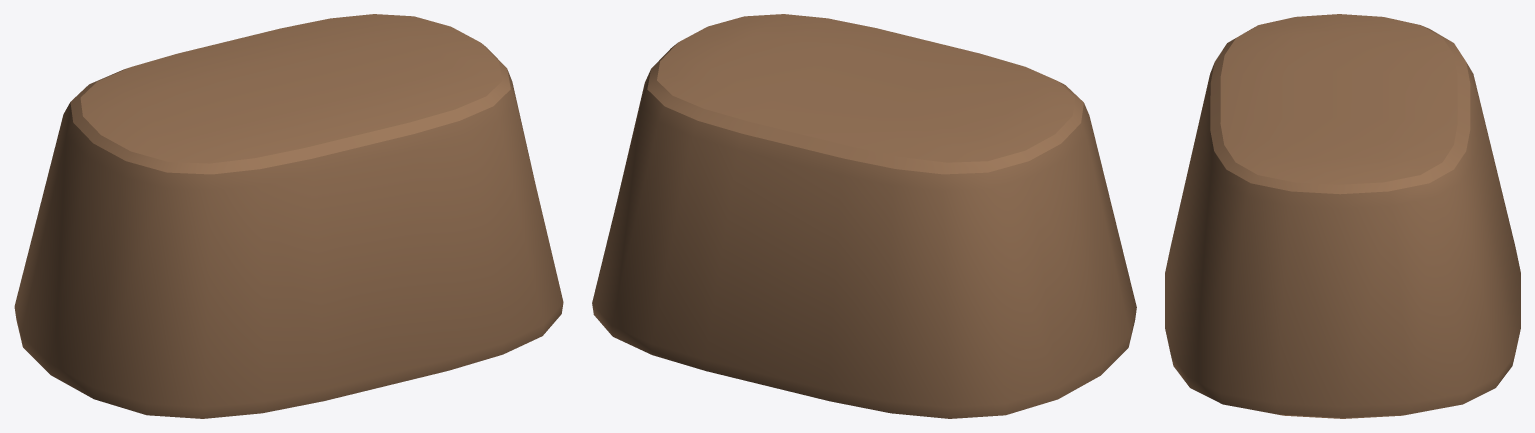
File: quaternius-platformer-game-rock-platforms-large.glb
3 renders of one model, left to right at view 1: azimuth 30°, elevation 25°; view 2: azimuth 150°, elevation 25°; view 3: azimuth 270°, elevation 25°, orthographic. The views are drawn at different scales.
Visible parts, largest first — view 1: RockPlatforms_Large; view 2: RockPlatforms_Large; view 3: RockPlatforms_Large.
Boxes of the visible parts, x1,y1,x2,y2 form: RockPlatforms_Large: (14, 14, 563, 418); RockPlatforms_Large: (592, 14, 1136, 418); RockPlatforms_Large: (1165, 14, 1520, 418).
Size of the model in its own units: 7.38 by 3.63 by 5.16.
